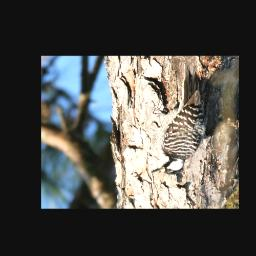Woodpecker: (150, 66, 207, 175)
